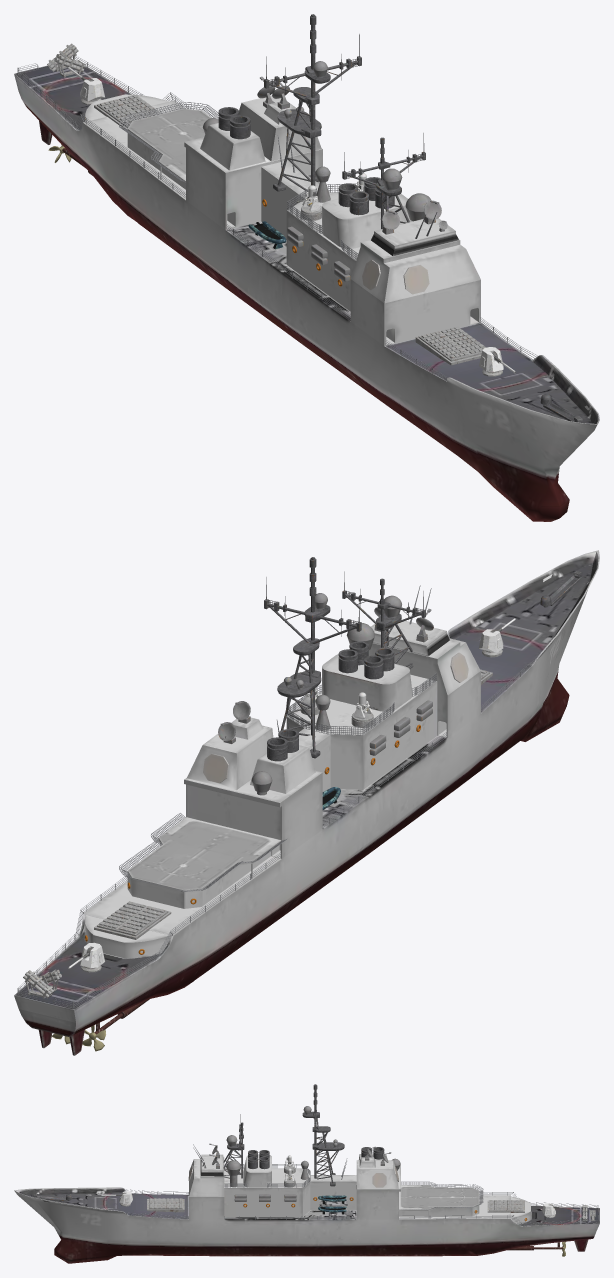
Rendered from INQUISITION_CRUISER.glb.
3 views of the same model, one above another, from view 1: azimuth 30°, elevation 25°; view 2: azimuth 150°, elevation 25°; view 3: azimuth 270°, elevation 25° (orthographic). The views are drawn at different scales.
Visible parts, largest first — view 1: ticonderoga1_ship_0, sides_storage_thingies_lambert1_0, harpoon1_guns_0, hull_handrail_metals_0; view 2: ticonderoga1_ship_0, sides_storage_thingies_lambert1_0, hull_handrail_metals_0, harpoon1_guns_0; view 3: ticonderoga1_ship_0, sides_storage_thingies_lambert1_0, hull_handrail_metals_0, harpoon1_guns_0, boats_holders1_boats_0.
Boxes of the visible parts, <box> form: ticonderoga1_ship_0: <box>14,65,599,521</box>; sides_storage_thingies_lambert1_0: <box>85,14,582,422</box>; harpoon1_guns_0: <box>47,43,515,376</box>; hull_handrail_metals_0: <box>17,55,537,380</box>; ticonderoga1_ship_0: <box>14,550,599,1055</box>; sides_storage_thingies_lambert1_0: <box>85,557,582,954</box>; hull_handrail_metals_0: <box>17,585,537,1051</box>; harpoon1_guns_0: <box>23,618,515,998</box>; ticonderoga1_ship_0: <box>14,1154,599,1263</box>; sides_storage_thingies_lambert1_0: <box>33,1084,527,1221</box>; hull_handrail_metals_0: <box>126,1144,598,1256</box>; harpoon1_guns_0: <box>101,1155,595,1221</box>; boats_holders1_boats_0: <box>318,1195,346,1214</box>.
Bounding box in the file's own units: 0.0189 × 0.0557 × 0.1683.
Materials: 5 (5 with a texture image).
